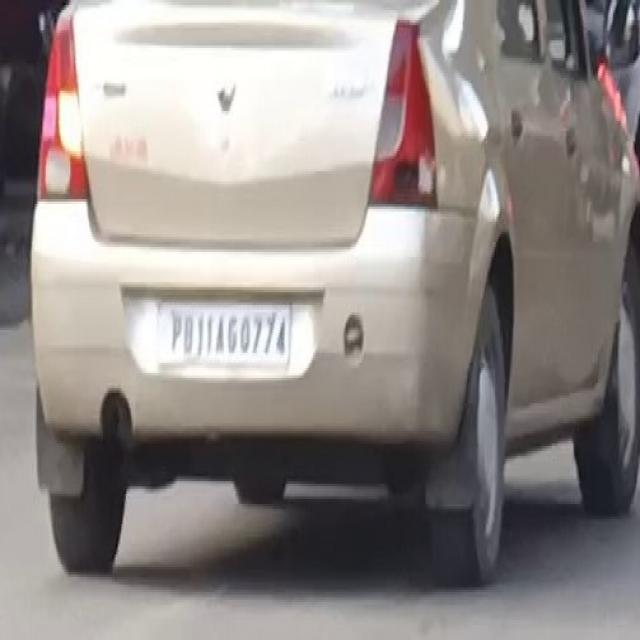Plate: (156, 289, 294, 367)
